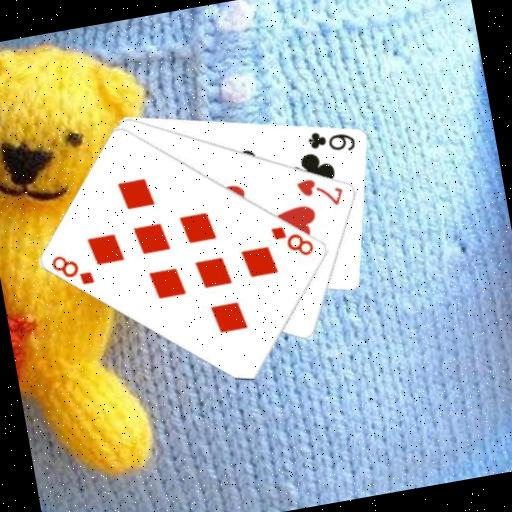6C: (303, 122, 358, 159)
7H: (293, 170, 347, 213)
8D: (266, 217, 317, 263), (47, 246, 97, 292)
